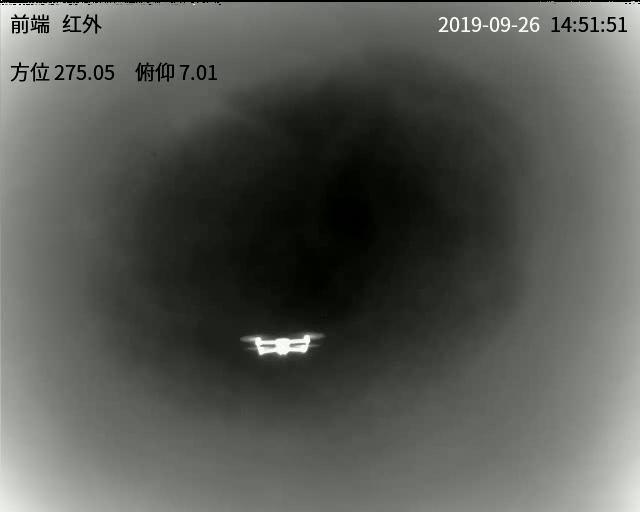DRONE: (239, 333, 323, 357)
